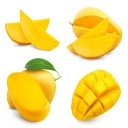mango: (6, 69, 56, 123)
